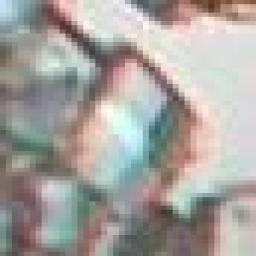crystals: (53, 45, 207, 226)
